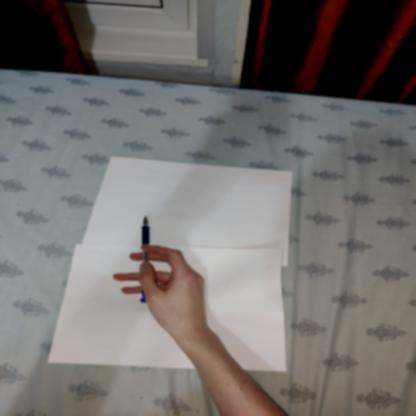Pen: (128, 212, 157, 318)
